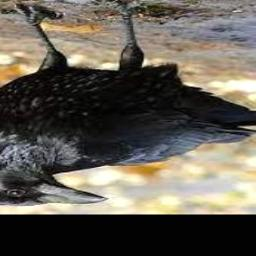Crow: (0, 0, 256, 207)
